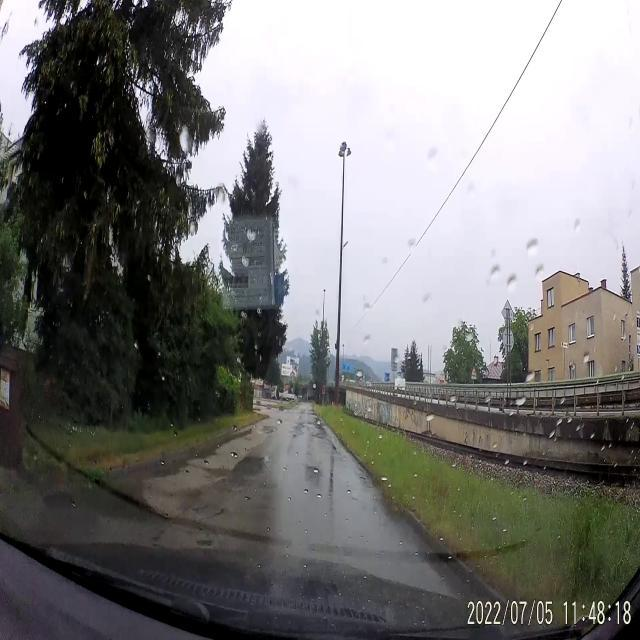Pothole: (357, 468, 371, 498), (194, 533, 214, 552)
